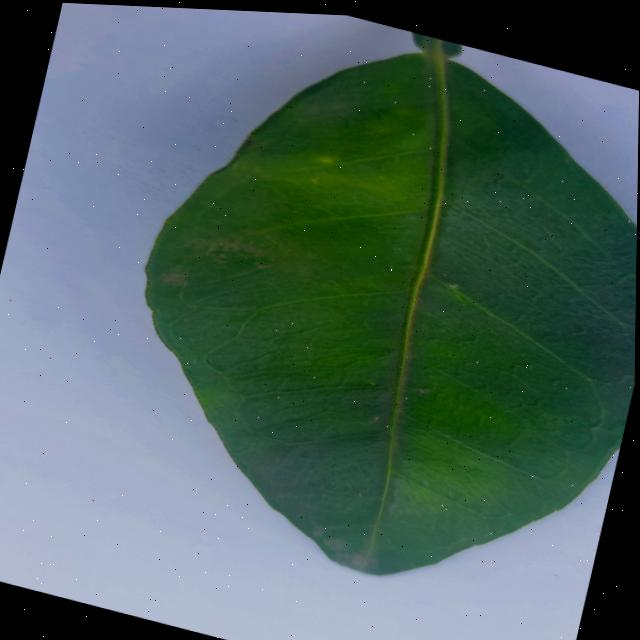greening: (146, 32, 637, 573)
